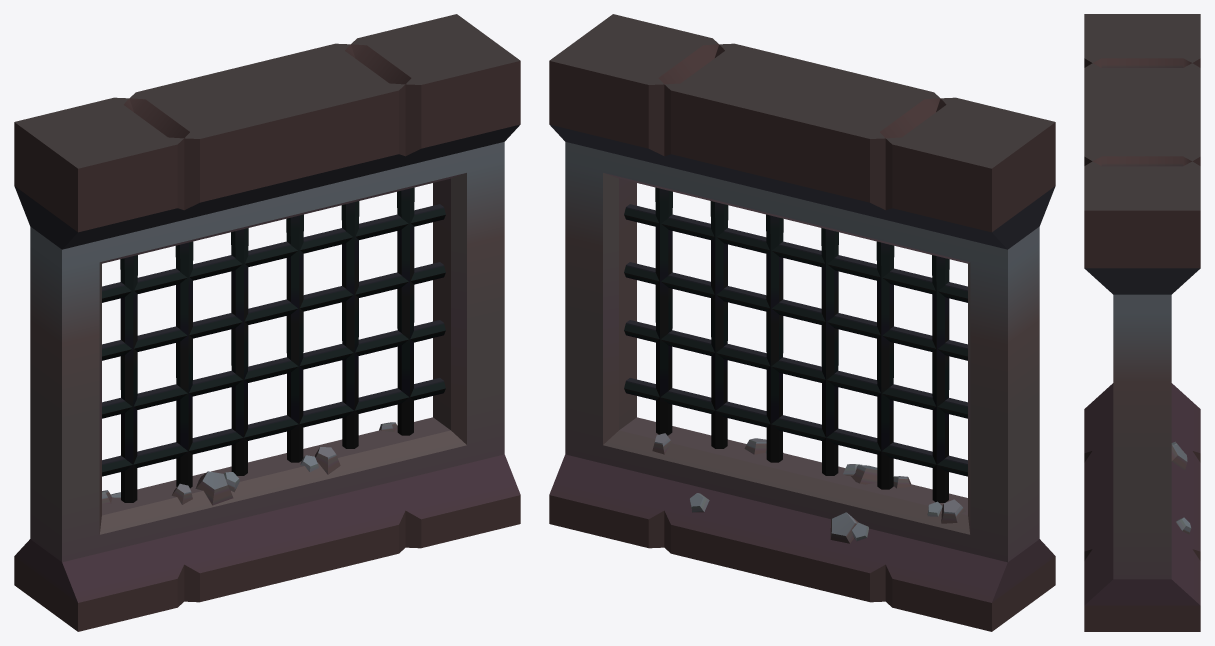
Rendered from gate.glb.
3 views of the same model, side by side, from view 1: azimuth 30°, elevation 25°; view 2: azimuth 150°, elevation 25°; view 3: azimuth 270°, elevation 25° (orthographic). The views are drawn at different scales.
Visible parts, largest first — view 1: gate; view 2: gate; view 3: gate.
Boxes of the visible parts, bbox=[...] form: gate: bbox=[14, 14, 520, 631]; gate: bbox=[549, 14, 1055, 631]; gate: bbox=[1084, 14, 1200, 631].
Bounding box in the file's own units: 4 × 4 × 1.
Materials: 1 (1 with a texture image).
